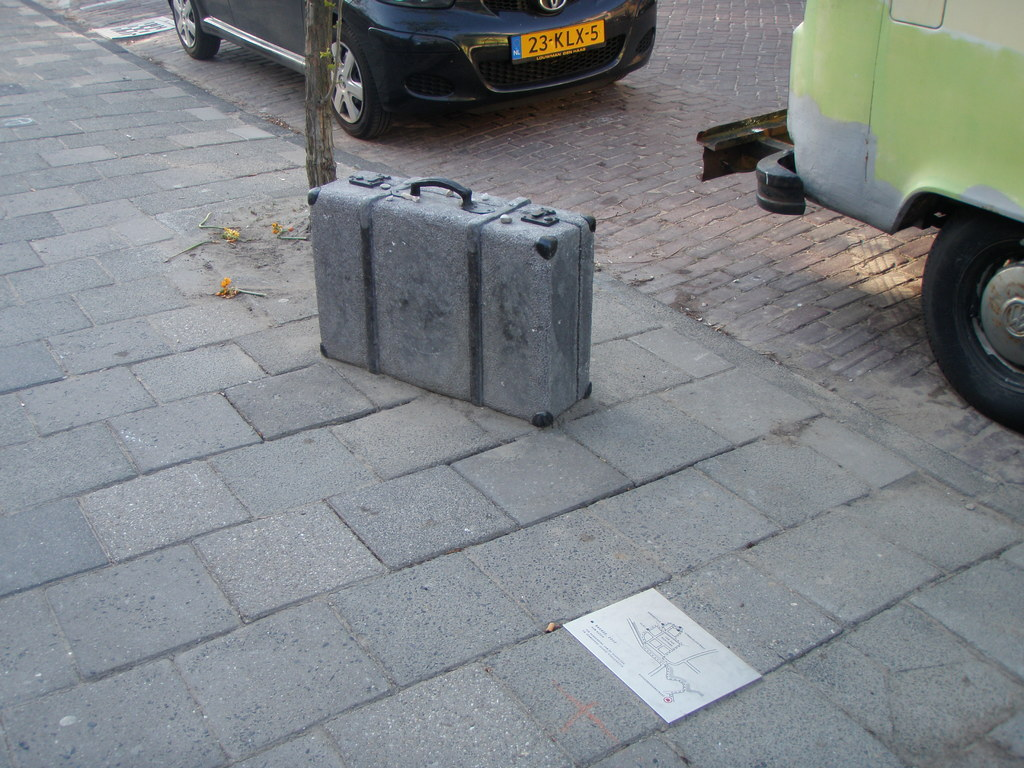cars: (168, 0, 656, 138)
